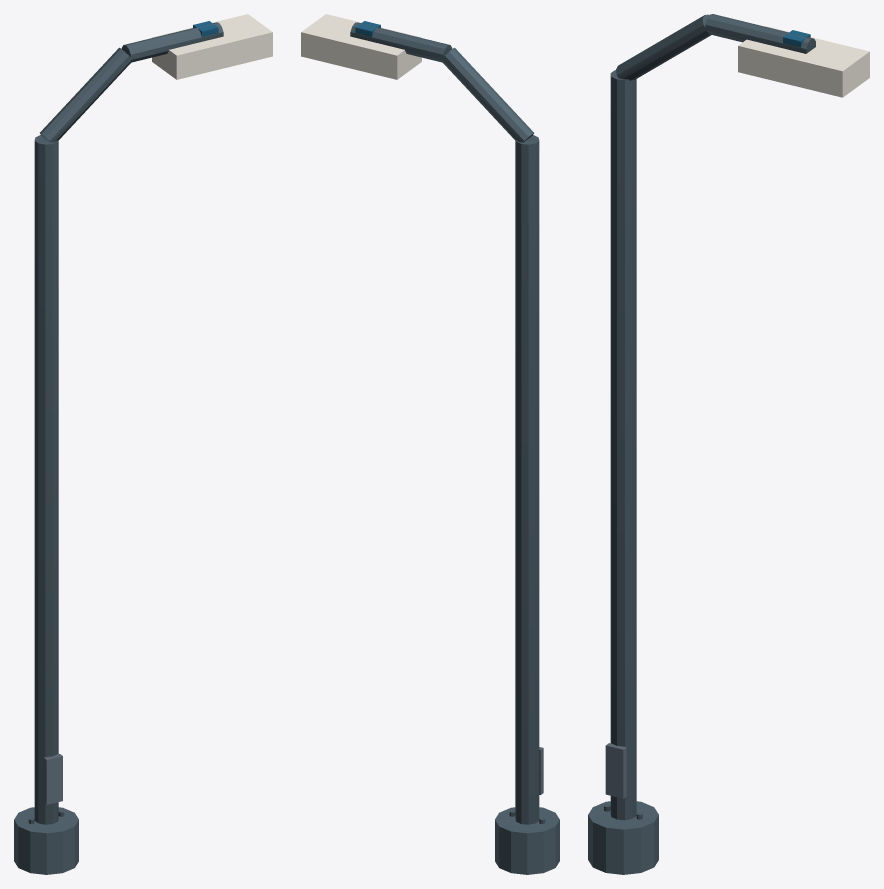
The model's file is lamp.glb.
3 renders of one model, left to right at view 1: azimuth 30°, elevation 25°; view 2: azimuth 150°, elevation 25°; view 3: azimuth 330°, elevation 25°, orthographic. The views are drawn at different scales.
Parts seen in each view (by area): view 1: foot, lamp housing, maintenance hatch; view 2: foot, lamp housing; view 3: foot, lamp housing, maintenance hatch.
Boxes of the visible parts, box(x1,y1,x2,y2) form: foot: box(14, 22, 223, 874); lamp housing: box(152, 14, 272, 79); maintenance hatch: box(43, 754, 62, 804); foot: box(350, 22, 559, 874); lamp housing: box(301, 14, 421, 79); foot: box(588, 14, 815, 874); lamp housing: box(738, 26, 869, 97); maintenance hatch: box(605, 743, 626, 798).
Bounding box in the file's own units: 0.73 × 2.3 × 0.17.
